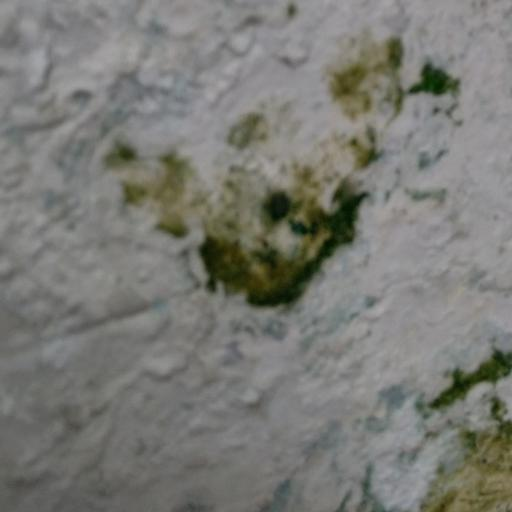algae: (90, 35, 481, 329)
